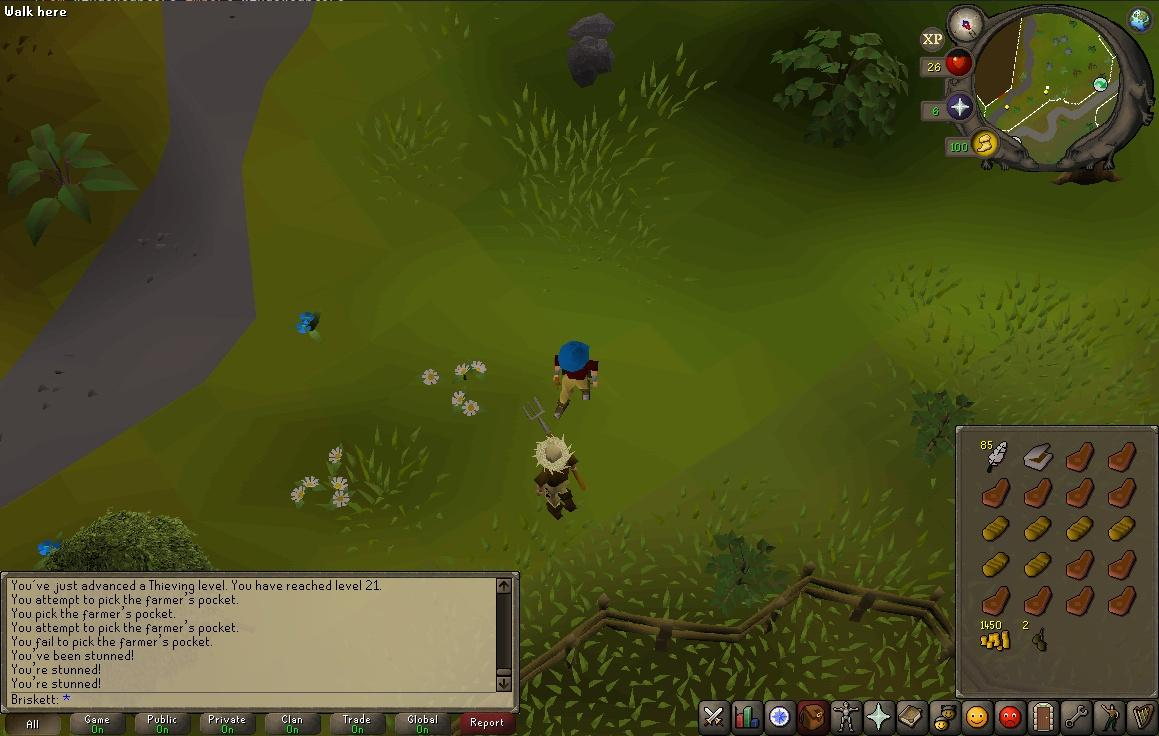Farmer: (533, 433, 588, 520)
